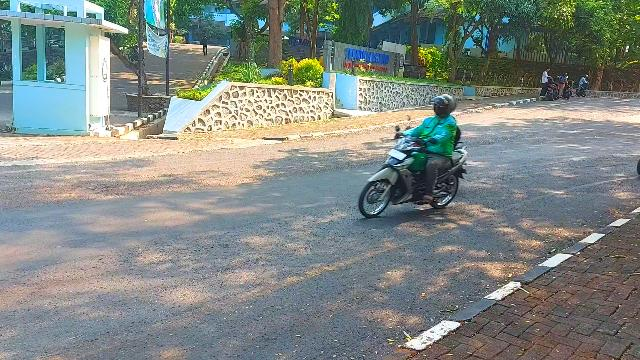helm: (432, 96, 457, 117)
motor: (359, 127, 469, 219)
